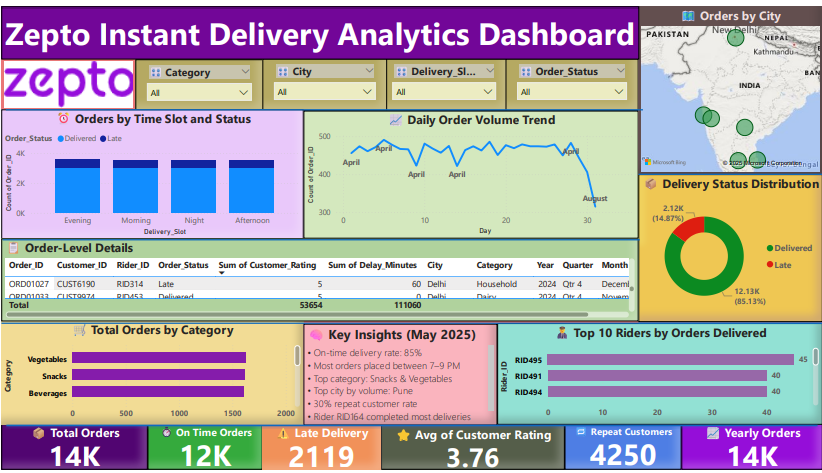

Layout of this report page (visuals, bound fields, positions):
{"tool":"powerbi","page":{"name":"Zepto Instant Delivery Analytics Dashboard","canvas":[1280,720],"ordinal":0},"visuals":[{"type":"slicer","fields":{"Values":["Zepto_Instant_Delivery_Dataset.Category"]},"box":[208.8,81.2,198.8,80],"z":0},{"type":"slicer","fields":{"Values":["Zepto_Instant_Delivery_Dataset.Delivery_Slot"]},"box":[592,80.5,196.9,80.5],"z":1000},{"type":"slicer","fields":{"Values":["Zepto_Instant_Delivery_Dataset.City"]},"box":[406.6,80.5,194,80.5],"z":2000},{"type":"slicer","fields":{"Values":["Zepto_Instant_Delivery_Dataset.Order_Status"]},"box":[786,80.5,206.9,80.5],"z":3000},{"type":"card","title":"📦 Total Orders","fields":{"Values":["Zepto_Instant_Delivery_Dataset.Total Orders"]},"box":[0,649.5,228.5,70.4],"z":4000},{"type":"card","title":"⏱️ On Time Orders","fields":{"Values":["Zepto_Instant_Delivery_Dataset.On-Time Orders"]},"box":[228.5,649.5,178.2,70.4],"z":5000},{"type":"card","title":"⭐  Avg of Customer Rating","fields":{"Values":["Avg(Zepto_Instant_Delivery_Dataset.Customer_Rating)"]},"box":[592,649.5,285.9,70.4],"z":6000},{"type":"card","title":"⚠️ Late Delivery","fields":{"Values":["Zepto_Instant_Delivery_Dataset.Late Deliveries"]},"box":[406.6,649.5,185.4,70.4],"z":7000},{"type":"card","title":"🔁 Repeat Customers","fields":{"Values":["Zepto_Instant_Delivery_Dataset.Repeat Customers"]},"box":[878,649.5,182.5,70.4],"z":8000},{"type":"card","title":"📈 Yearly Orders","fields":{"Values":["Zepto_Instant_Delivery_Dataset.Yearly Orders"]},"box":[1060.4,649.5,219.8,70.4],"z":9000},{"type":"clusteredBarChart","title":"🛒 Total Orders by Category","fields":{"Y":["Zepto_Instant_Delivery_Dataset.Total Orders"],"Category":["Zepto_Instant_Delivery_Dataset.Category"]},"box":[0,489.2,471,161.8],"z":10000},{"type":"lineChart","title":"📈  Daily Order Volume Trend","fields":{"Category":["Zepto_Instant_Delivery_Dataset.Order_Time.Variation.Date Hierarchy.Day"],"Y":["CountNonNull(Zepto_Instant_Delivery_Dataset.Order_ID)"]},"box":[471,160.6,521.8,199.3],"z":11000},{"type":"clusteredBarChart","title":"👨✈️ Top 10 Riders by Orders Delivered","fields":{"Category":["Zepto_Instant_Delivery_Dataset.Rider_ID"],"Y":["CountNonNull(Zepto_Instant_Delivery_Dataset.Order_ID)"]},"box":[773,491.6,507.3,158.2],"z":12000},{"type":"columnChart","title":"⏰ Orders by Time Slot and Status","fields":{"Y":["CountNonNull(Zepto_Instant_Delivery_Dataset.Order_ID)"],"Category":["Zepto_Instant_Delivery_Dataset.Delivery_Slot"],"Series":["Zepto_Instant_Delivery_Dataset.Order_Status"]},"box":[0,159.4,471,201.7],"z":13000},{"type":"donutChart","title":"📦 Delivery Status Distribution","fields":{"Y":["CountNonNull(Zepto_Instant_Delivery_Dataset.Order_ID)"],"Series":["Zepto_Instant_Delivery_Dataset.Order_Status"]},"box":[992.8,259.7,287.5,230.7],"z":14000},{"type":"map","title":"🗺️ Orders by City","fields":{"Category":["Zepto_Instant_Delivery_Dataset.City"],"Size":["CountNonNull(Zepto_Instant_Delivery_Dataset.Order_ID)"]},"box":[992.8,0,287.5,260.9],"z":15000},{"type":"tableEx","title":"📋 Order-Level Details","fields":{"Values":["Zepto_Instant_Delivery_Dataset.Order_ID","Zepto_Instant_Delivery_Dataset.Customer_ID","Zepto_Instant_Delivery_Dataset.Rider_ID","Zepto_Instant_Delivery_Dataset.Order_Status","Sum(Zepto_Instant_Delivery_Dataset.Customer_Rating)","Sum(Zepto_Instant_Delivery_Dataset.Delay_Minutes)","Zepto_Instant_Delivery_Dataset.City","Zepto_Instant_Delivery_Dataset.Category","Zepto_Instant_Delivery_Dataset.Order_Time.Variation.Date Hierarchy.Year","Zepto_Instant_Delivery_Dataset.Order_Time.Variation.Date Hierarchy.Quarter","Zepto_Instant_Delivery_Dataset.Order_Time.Variation.Date Hierarchy.Month","Zepto_Instant_Delivery_Dataset.Order_Time.Variation.Date Hierarchy.Day"]},"box":[0,359.9,992.8,129.2],"z":16000},{"type":"textbox","box":[0,0,994,81],"z":17000},{"type":"image","box":[0,80,208.8,81.2],"z":18000},{"type":"textbox","title":"🧠 Key Insights (May 2025)","box":[471,492.8,301.9,158.2],"z":19000},{"type":"shape","box":[0,643.7,1280.2,12.1],"z":20000},{"type":"shape","box":[0,485.5,1280.2,12.1],"z":21000},{"type":"shape","box":[2.4,352.7,992.8,18.1],"z":22000},{"type":"shape","box":[7.2,149.8,992.8,19.3],"z":23000},{"type":"shape","box":[992.8,485.5,287.5,12.1],"z":25000},{"type":"shape","box":[992.8,253.6,287.5,12.1],"z":26000}]}

Visuals, with their boxes in screenshot pixels (x1, y1, x2, y2), scaled from the page's 1280x720 canvas onto the 822x473 screenshot:
slicer - Zepto_Instant_Delivery_Dataset.Category: <region>134, 53, 262, 106</region>
slicer - Zepto_Instant_Delivery_Dataset.Delivery_Slot: <region>380, 53, 507, 106</region>
slicer - Zepto_Instant_Delivery_Dataset.City: <region>261, 53, 386, 106</region>
slicer - Zepto_Instant_Delivery_Dataset.Order_Status: <region>505, 53, 638, 106</region>
"📦 Total Orders" card: <region>0, 427, 147, 472</region>
"⏱️ On Time Orders" card: <region>147, 427, 261, 472</region>
"⭐  Avg of Customer Rating" card: <region>380, 427, 564, 472</region>
"⚠️ Late Delivery" card: <region>261, 427, 380, 472</region>
"🔁 Repeat Customers" card: <region>564, 427, 681, 472</region>
"📈 Yearly Orders" card: <region>681, 427, 821, 472</region>
"🛒 Total Orders by Category" clusteredBarChart: <region>0, 321, 302, 428</region>
"📈  Daily Order Volume Trend" lineChart: <region>302, 106, 638, 236</region>
"👨✈️ Top 10 Riders by Orders Delivered" clusteredBarChart: <region>496, 323, 821, 427</region>
"⏰ Orders by Time Slot and Status" columnChart: <region>0, 105, 302, 237</region>
"📦 Delivery Status Distribution" donutChart: <region>638, 171, 821, 322</region>
"🗺️ Orders by City" map: <region>638, 0, 821, 171</region>
"📋 Order-Level Details" tableEx: <region>0, 236, 638, 321</region>
textbox: <region>0, 0, 638, 53</region>
image: <region>0, 53, 134, 106</region>
"🧠 Key Insights (May 2025)" textbox: <region>302, 324, 496, 428</region>
shape: <region>0, 423, 821, 431</region>
shape: <region>0, 319, 821, 327</region>
shape: <region>2, 232, 639, 244</region>
shape: <region>5, 98, 642, 111</region>
shape: <region>638, 319, 821, 327</region>
shape: <region>638, 167, 821, 175</region>
